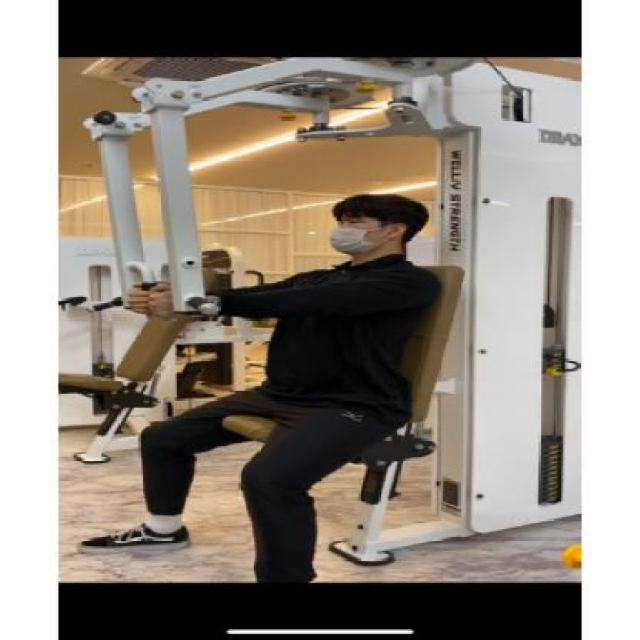chest fly machine: (49, 52, 640, 580)
